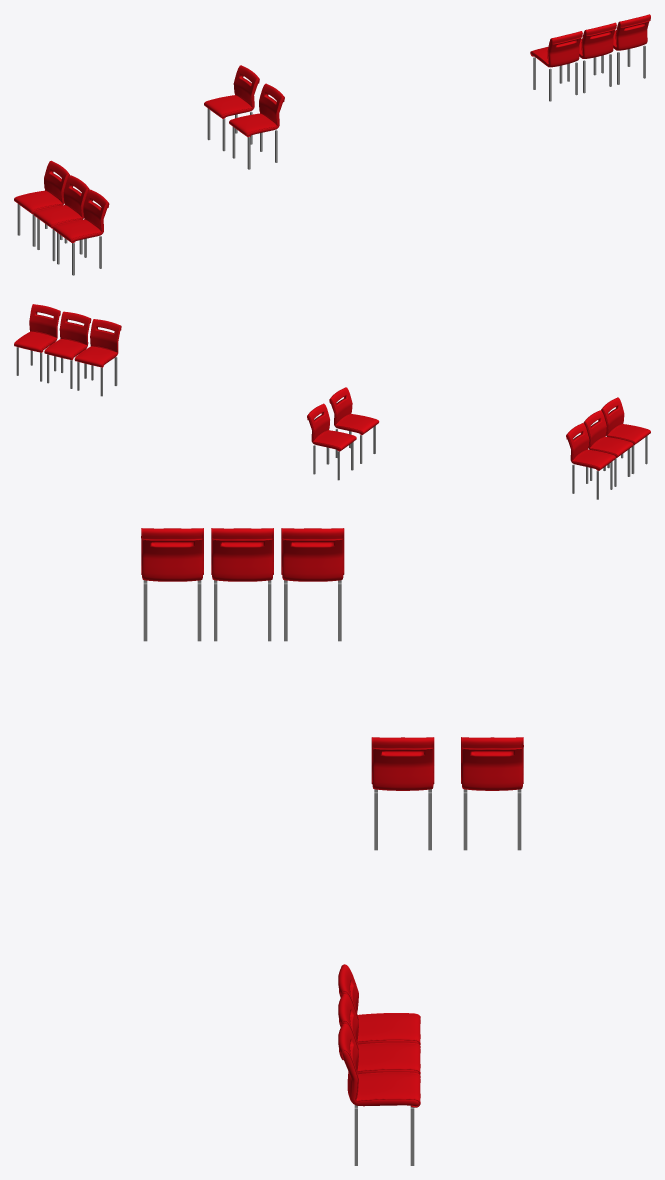
Rendered from Counter_8_Exhibition_Chairs.FBX.
3 views of the same model, one above another, from view 1: azimuth 30°, elevation 25°; view 2: azimuth 150°, elevation 25°; view 3: azimuth 270°, elevation 25° (orthographic). The views are drawn at different scales.
Parts seen in each view (by area): view 1: Counter_8_Exhibition_chair003, Counter_8_Exhibition_chair, Counter_8_Exhibition_chair004, Counter_8_Exhibition_chair001, Counter_8_Exhibition_chair002, Counter_8_Exhibition_chair005, Counter_8_Exhibition_chair007, Counter_8_Exhibition_chair006; view 2: Counter_8_Exhibition_chair005, Counter_8_Exhibition_chair007, Counter_8_Exhibition_chair006, Counter_8_Exhibition_chair004, Counter_8_Exhibition_chair002, Counter_8_Exhibition_chair003, Counter_8_Exhibition_chair001, Counter_8_Exhibition_chair; view 3: Counter_8_Exhibition_chair004, Counter_8_Exhibition_chair, Counter_8_Exhibition_chair003, Counter_8_Exhibition_chair002, Counter_8_Exhibition_chair001, Counter_8_Exhibition_chair007, Counter_8_Exhibition_chair006, Counter_8_Exhibition_chair005.
Boxes of the visible parts, x1=… form: Counter_8_Exhibition_chair003: x1=229, y1=83, x2=284, y2=169; Counter_8_Exhibition_chair: x1=53, y1=189, x2=109, y2=275; Counter_8_Exhibition_chair004: x1=204, y1=65, x2=259, y2=151; Counter_8_Exhibition_chair001: x1=33, y1=175, x2=89, y2=261; Counter_8_Exhibition_chair002: x1=14, y1=160, x2=69, y2=246; Counter_8_Exhibition_chair005: x1=530, y1=31, x2=582, y2=101; Counter_8_Exhibition_chair007: x1=601, y1=14, x2=650, y2=84; Counter_8_Exhibition_chair006: x1=567, y1=22, x2=616, y2=93; Counter_8_Exhibition_chair005: x1=74, y1=319, x2=121, y2=396; Counter_8_Exhibition_chair007: x1=14, y1=304, x2=60, y2=381; Counter_8_Exhibition_chair006: x1=44, y1=311, x2=91, y2=388; Counter_8_Exhibition_chair004: x1=307, y1=403, x2=356, y2=480; Counter_8_Exhibition_chair002: x1=566, y1=423, x2=615, y2=499; Counter_8_Exhibition_chair003: x1=329, y1=387, x2=379, y2=463; Counter_8_Exhibition_chair001: x1=583, y1=410, x2=633, y2=486; Counter_8_Exhibition_chair: x1=601, y1=397, x2=650, y2=473; Counter_8_Exhibition_chair004: x1=461, y1=737, x2=523, y2=850; Counter_8_Exhibition_chair: x1=141, y1=528, x2=203, y2=641; Counter_8_Exhibition_chair003: x1=371, y1=737, x2=434, y2=850; Counter_8_Exhibition_chair002: x1=281, y1=528, x2=344, y2=641; Counter_8_Exhibition_chair001: x1=211, y1=528, x2=273, y2=641; Counter_8_Exhibition_chair007: x1=338, y1=1023, x2=420, y2=1165; Counter_8_Exhibition_chair006: x1=338, y1=994, x2=420, y2=1074; Counter_8_Exhibition_chair005: x1=338, y1=964, x2=420, y2=1045.
Size of the model in its own units: 917 by 90.84 by 268.
